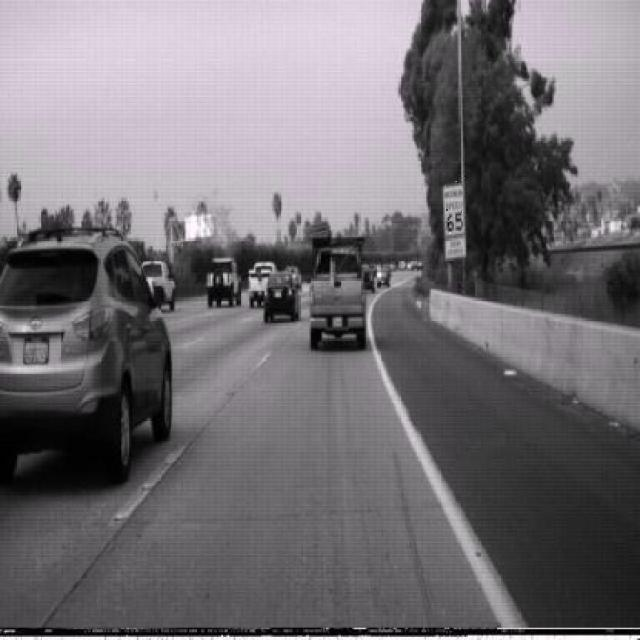speedLimit65: (442, 180, 464, 240)
